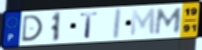1: (50, 11, 62, 43)
D: (20, 14, 44, 43)
I: (111, 7, 124, 40)
M: (154, 7, 185, 36), (129, 7, 157, 38)
T: (79, 11, 99, 39)
